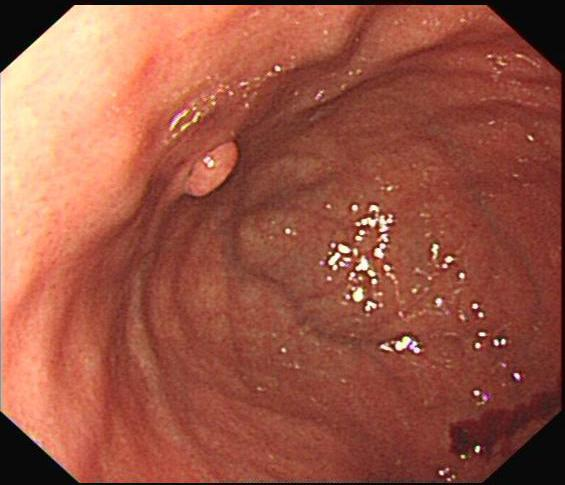Polyp: (172, 128, 247, 213)
